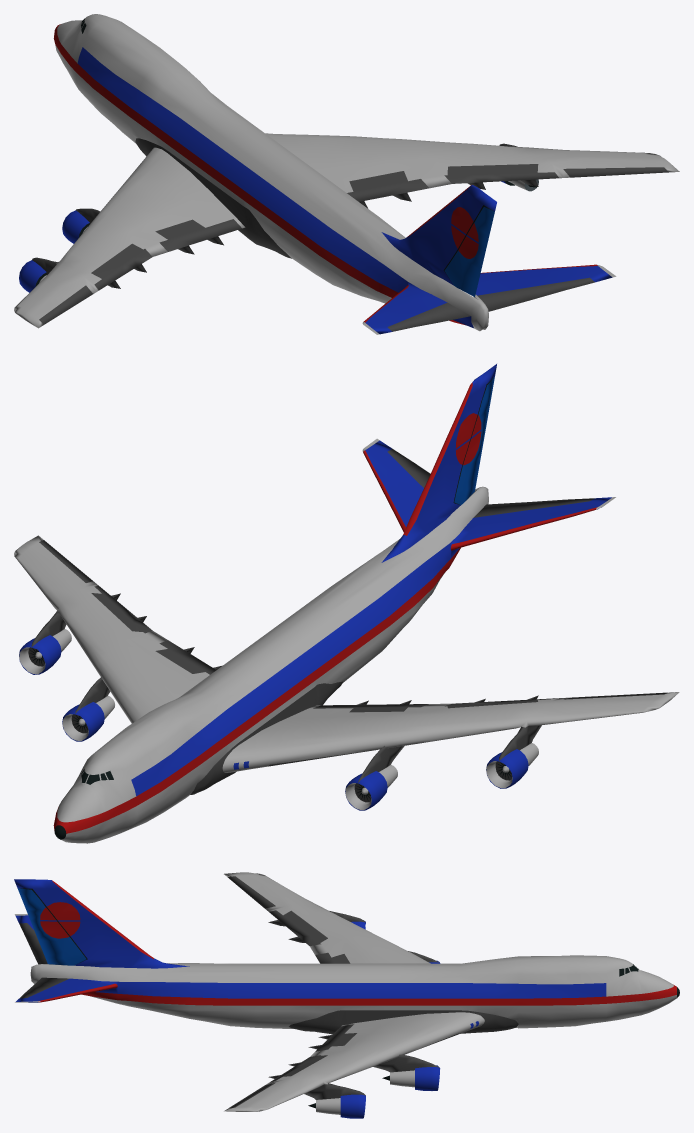
The picture shows the model from 3 angles, top to bottom: view 1: azimuth 30°, elevation 25°; view 2: azimuth 150°, elevation 25°; view 3: azimuth 270°, elevation 25°; orthographic projection. The views are drawn at different scales.
Visible parts, largest first — view 1: None_MAIN_FUSEL, None_UPPER_STRI, None_WING_BOX_A, None_LOGO___STR, None_RUDDER; view 2: None_MAIN_FUSEL, None_UPPER_STRI, None_WING_BOX_A, None_LOGO___STR, None_RUDDER, None_BLACK_TRIM; view 3: None_MAIN_FUSEL, None_UPPER_STRI, None_WING_BOX_A, None_LOGO___STR, None_RUDDER.
Part boxes in pixels (x1,y1,x2,y2): None_MAIN_FUSEL: [14, 14, 679, 334]; None_UPPER_STRI: [19, 47, 612, 334]; None_WING_BOX_A: [32, 138, 668, 331]; None_LOGO___STR: [53, 24, 597, 325]; None_RUDDER: [444, 207, 494, 296]; None_MAIN_FUSEL: [14, 438, 679, 843]; None_UPPER_STRI: [19, 364, 611, 810]; None_WING_BOX_A: [28, 449, 667, 802]; None_LOGO___STR: [53, 382, 597, 833]; None_RUDDER: [454, 377, 494, 504]; None_BLACK_TRIM: [29, 378, 511, 839]; None_MAIN_FUSEL: [14, 872, 676, 1114]; None_UPPER_STRI: [14, 879, 606, 1118]; None_WING_BOX_A: [19, 876, 518, 1108]; None_LOGO___STR: [38, 880, 676, 1005]; None_RUDDER: [17, 888, 86, 965].
Bounding box in the file's own units: 1.96 × 0.6053 × 2.31.
